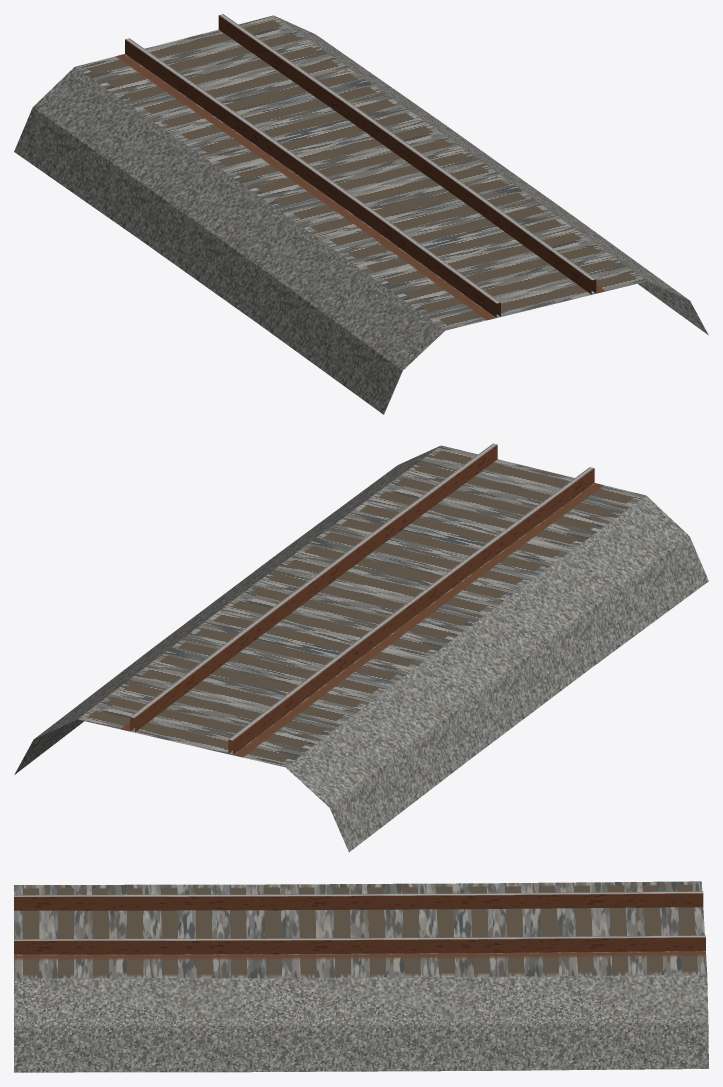
The model's file is rail_track_curve_r400_10m_l_v2_lod1.glb.
3 renders of one model, top to bottom at view 1: azimuth 30°, elevation 25°; view 2: azimuth 150°, elevation 25°; view 3: azimuth 270°, elevation 25°, orthographic. The views are drawn at different scales.
Parts seen in each view (by area): view 1: rail_track_curve_r400_10m_l_v2_lod1; view 2: rail_track_curve_r400_10m_l_v2_lod1; view 3: rail_track_curve_r400_10m_l_v2_lod1.
Boxes of the visible parts, x1=… form: rail_track_curve_r400_10m_l_v2_lod1: x1=14, y1=14, x2=708, y2=414; rail_track_curve_r400_10m_l_v2_lod1: x1=14, y1=443, x2=708, y2=852; rail_track_curve_r400_10m_l_v2_lod1: x1=14, y1=881, x2=708, y2=1072.
Size of the model in its own units: 5.27 by 1.27 by 10.06.
Materials: 2 (2 with a texture image).
